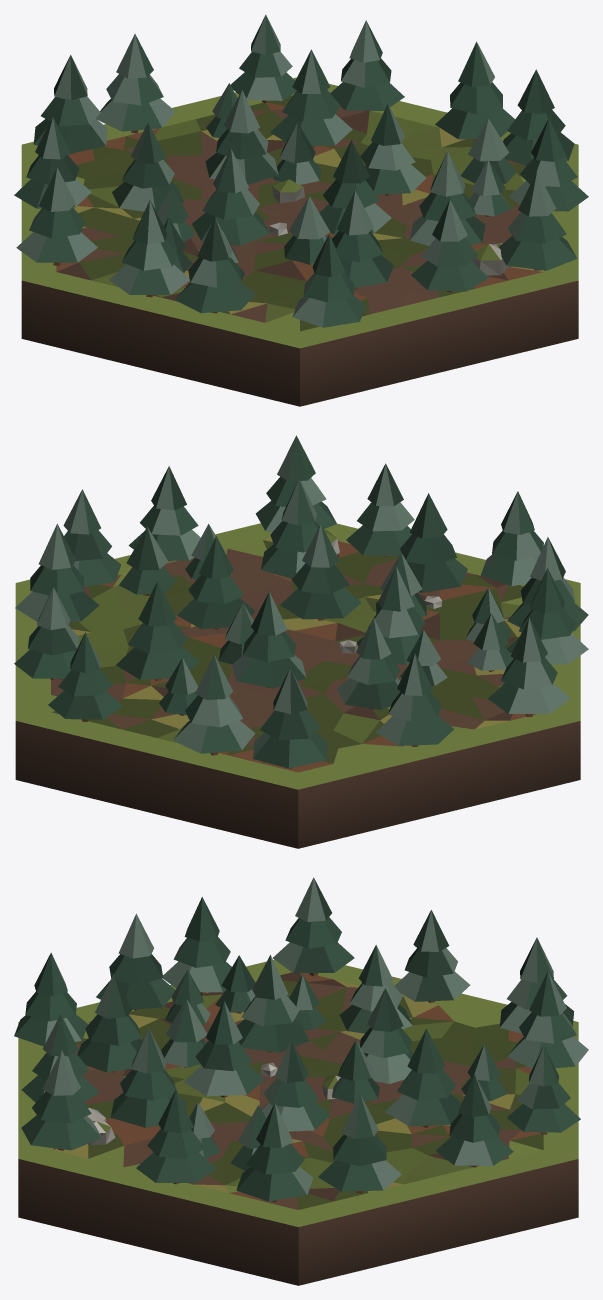
The model's file is SM_Tile_PineForest_A.fbx.
The picture shows the model from 3 angles, top to bottom: view 1: azimuth 30°, elevation 25°; view 2: azimuth 150°, elevation 25°; view 3: azimuth 270°, elevation 25°; orthographic projection.
Visible parts, largest first — view 1: SM_Tile_PineForest_A; view 2: SM_Tile_PineForest_A; view 3: SM_Tile_PineForest_A.
Boxes of the visible parts, x1,y1,x2,y2 form: SM_Tile_PineForest_A: (14, 14, 588, 406); SM_Tile_PineForest_A: (14, 435, 588, 848); SM_Tile_PineForest_A: (14, 877, 588, 1285).
Bounding box in the file's own units: 20 × 5.38 × 17.77.
